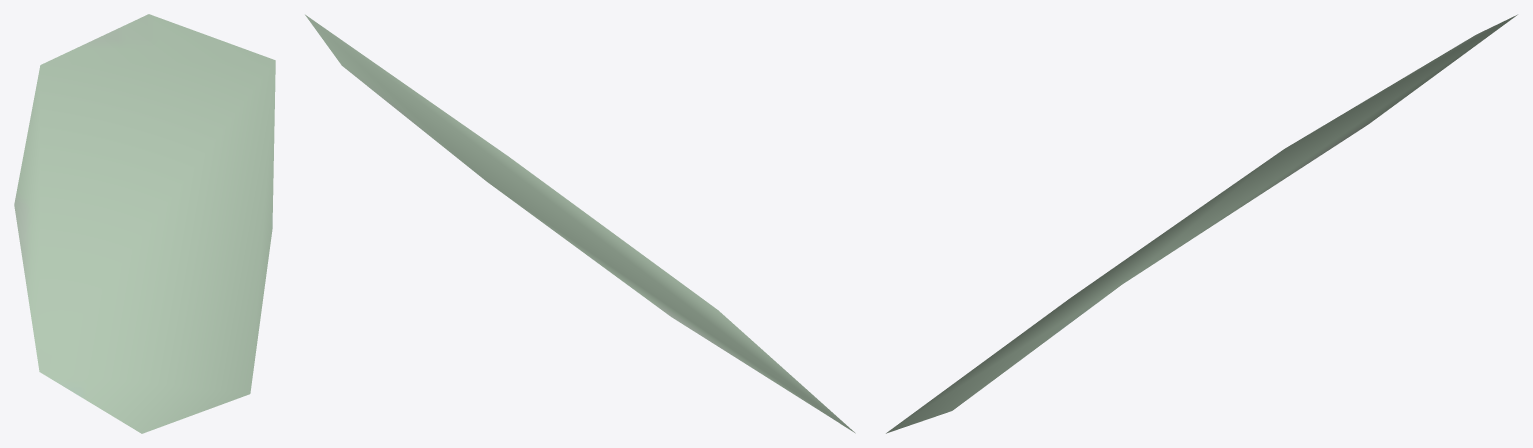
The model's file is TROLLHOLE02_HOLECAP179.fbx.
3 renders of one model, left to right at view 1: azimuth 30°, elevation 25°; view 2: azimuth 150°, elevation 25°; view 3: azimuth 270°, elevation 25°, orthographic. The views are drawn at different scales.
Parts seen in each view (by area): view 1: TROLLHOLE02_HOLECAP179; view 2: TROLLHOLE02_HOLECAP179; view 3: TROLLHOLE02_HOLECAP179.
Boxes of the visible parts, bbox=[...] form: TROLLHOLE02_HOLECAP179: bbox=[14, 14, 275, 433]; TROLLHOLE02_HOLECAP179: bbox=[305, 14, 855, 433]; TROLLHOLE02_HOLECAP179: bbox=[886, 14, 1517, 433].
Size of the model in its own units: 34005 by 32286 by 36344.
Materials: 1 (1 with a texture image).
